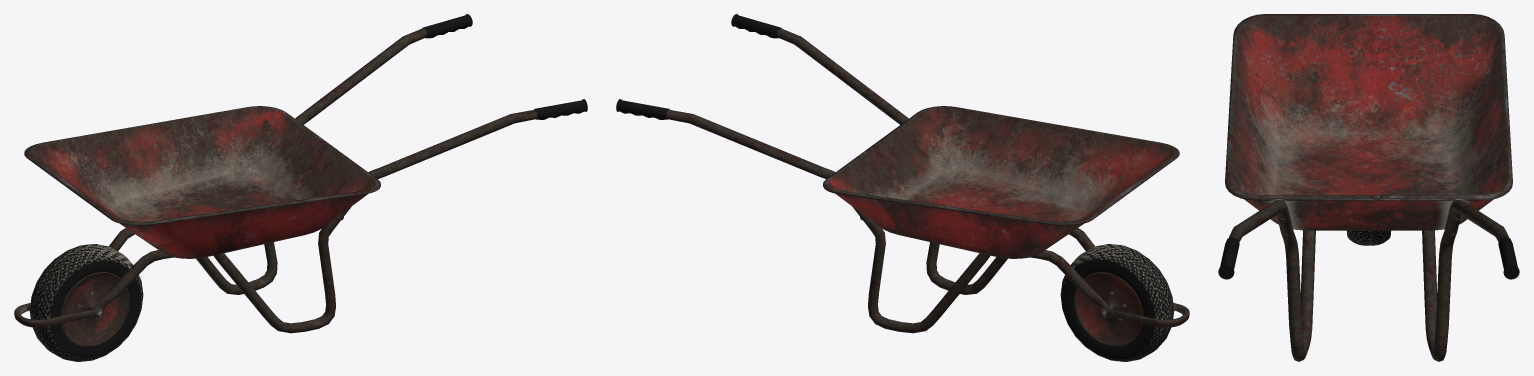
3 renders of one model, left to right at view 1: azimuth 30°, elevation 25°; view 2: azimuth 150°, elevation 25°; view 3: azimuth 270°, elevation 25°, orthographic. The views are drawn at different scales.
Visible parts, largest first — view 1: Base, Weel; view 2: Base, Weel; view 3: Base, Weel.
Boxes of the visible parts, box(x1,y1,x2,y2) form: Base: box(14, 14, 587, 333); Weel: box(29, 244, 143, 361); Base: box(616, 14, 1189, 333); Weel: box(1060, 244, 1174, 361); Base: box(1218, 14, 1519, 361); Weel: box(1347, 230, 1390, 245).
Bounding box in the file's own units: 2.33 × 0.8466 × 0.9707.
Materials: 1 (1 with a texture image).
